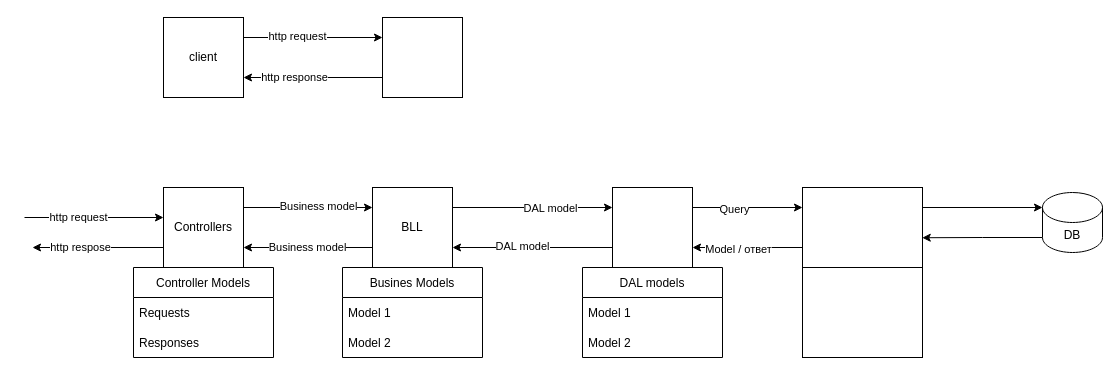
Image size: 1120x375. Some labels were removed from this diagram. The centre of each missing label's shape, as x and y in pixels:
"API-service" goes at point 422,57.
"DAL (repository)" goes at point 652,227.
"Framework (Daper)" goes at point 862,227.
"Преобразует запросы C# в SQL запросы в DB и ответ DB в модель C#" goes at point 862,312.
